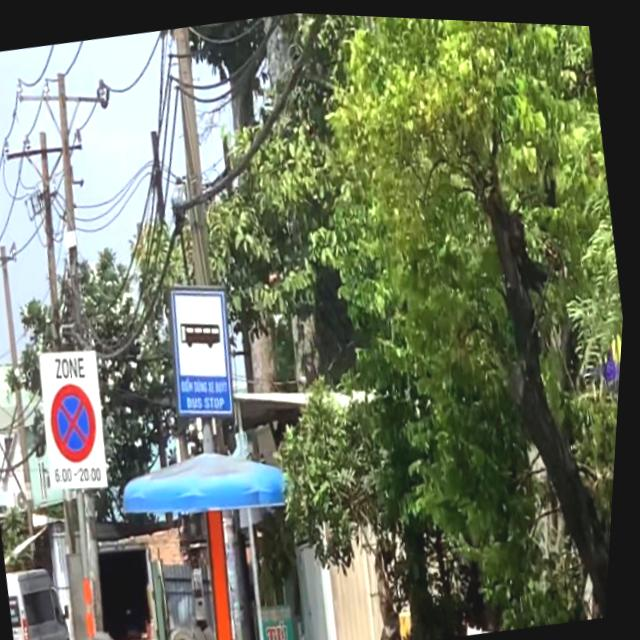Ben xe buyt: (161, 273, 252, 422)
Cam dung xe va do xe: (46, 377, 110, 466)
